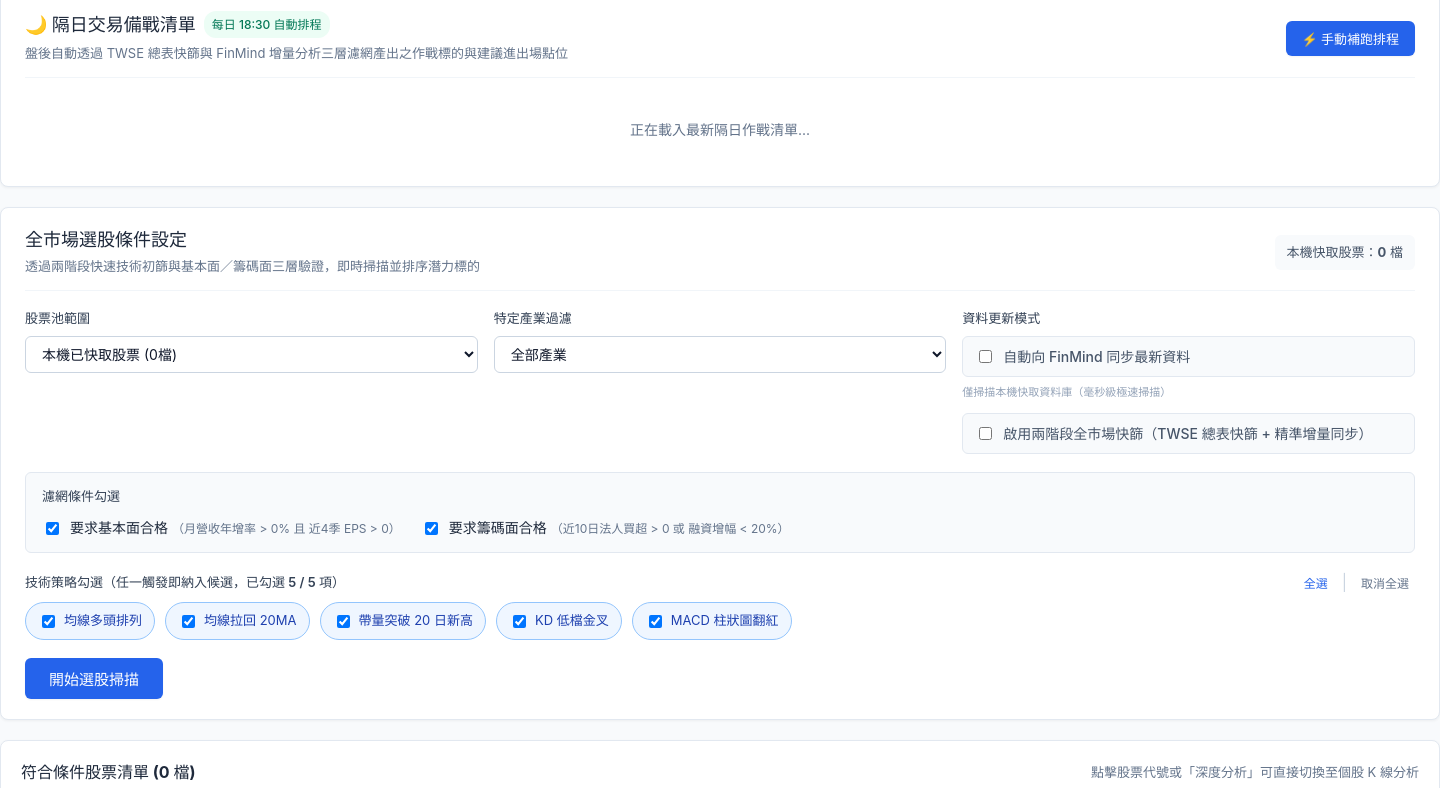
it: MarketScanner Component › supports aborting an in-progress scan and preserves matches
The width and height of the screenshot is (1440, 788).
Click the button with test id "start-scan-btn".
click(94, 678)  # box [25,658,163,699]
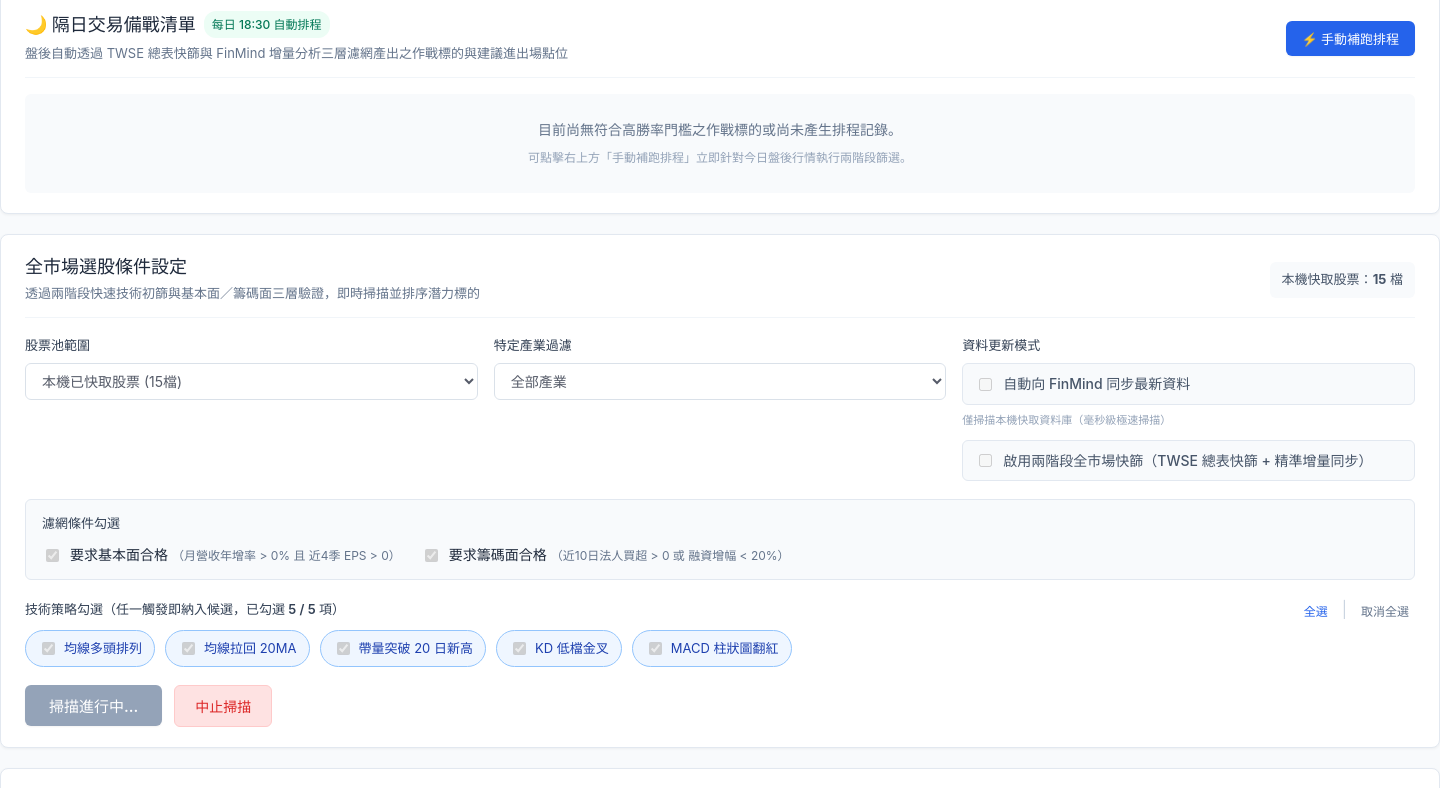
Result: the button with test id "abort-scan-btn" is shown
// Click abort button
Click the button with test id "abort-scan-btn".
click(223, 706)  # box [174,685,272,727]
(page scrolled)
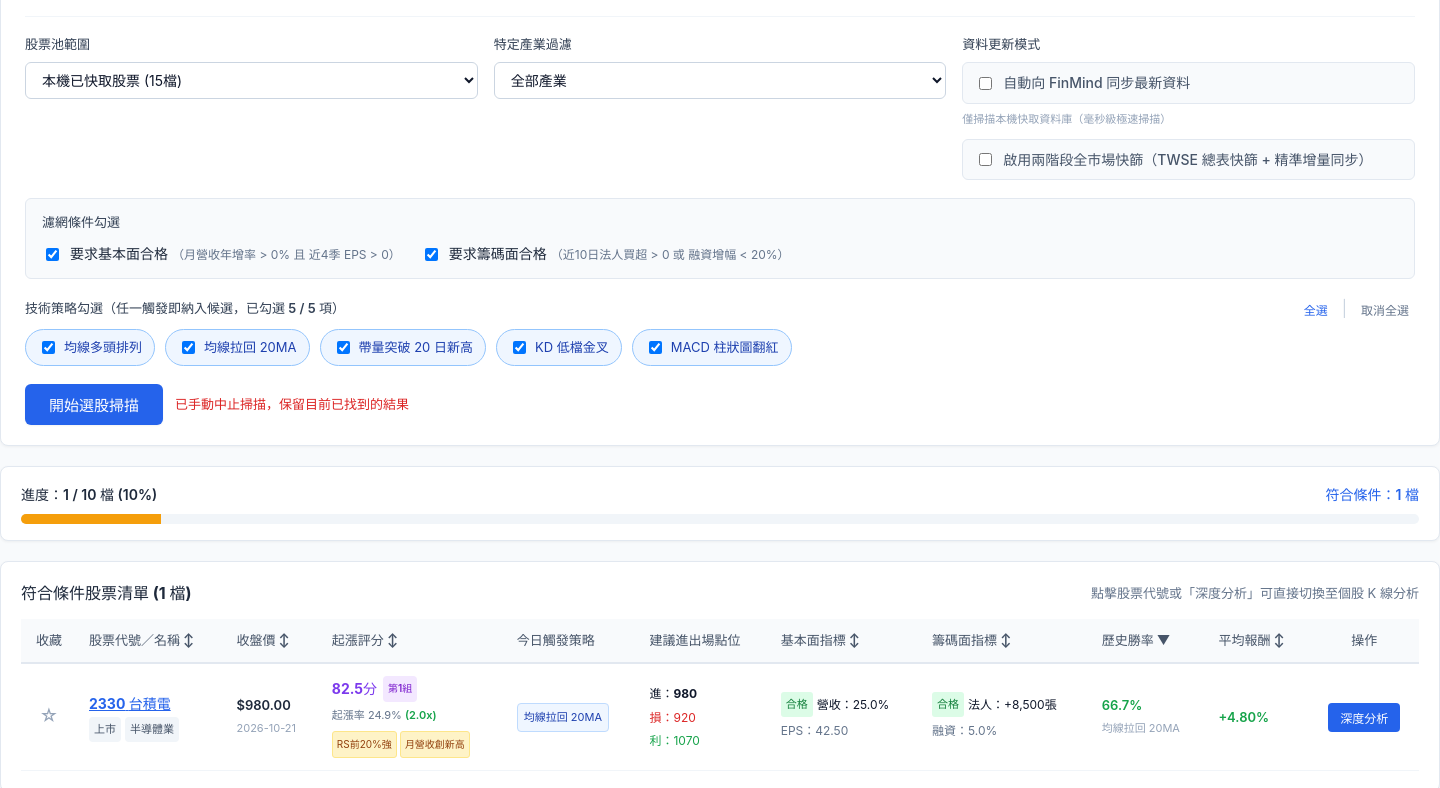
Result: the row with test id "stock-row-2330" is shown at [21,664,1419,771]
Result: the text "已手動中止掃描，保留目前已找到的結果" is shown at [175,393,409,416]
